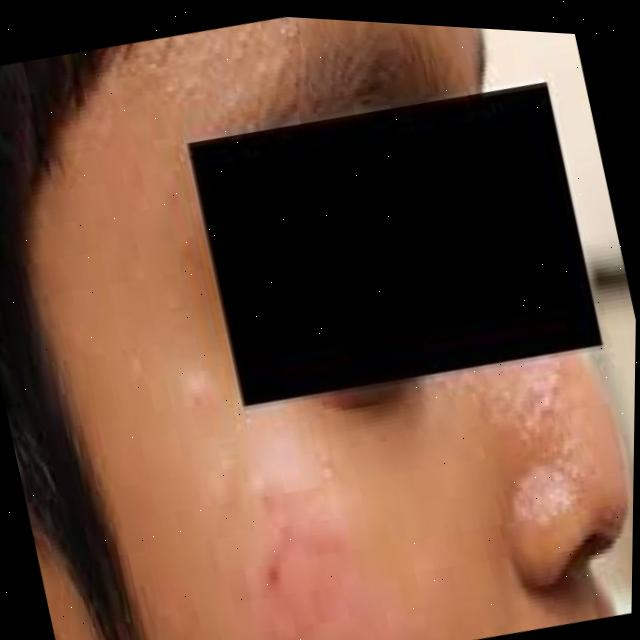Rosacea: (234, 507, 356, 640)
